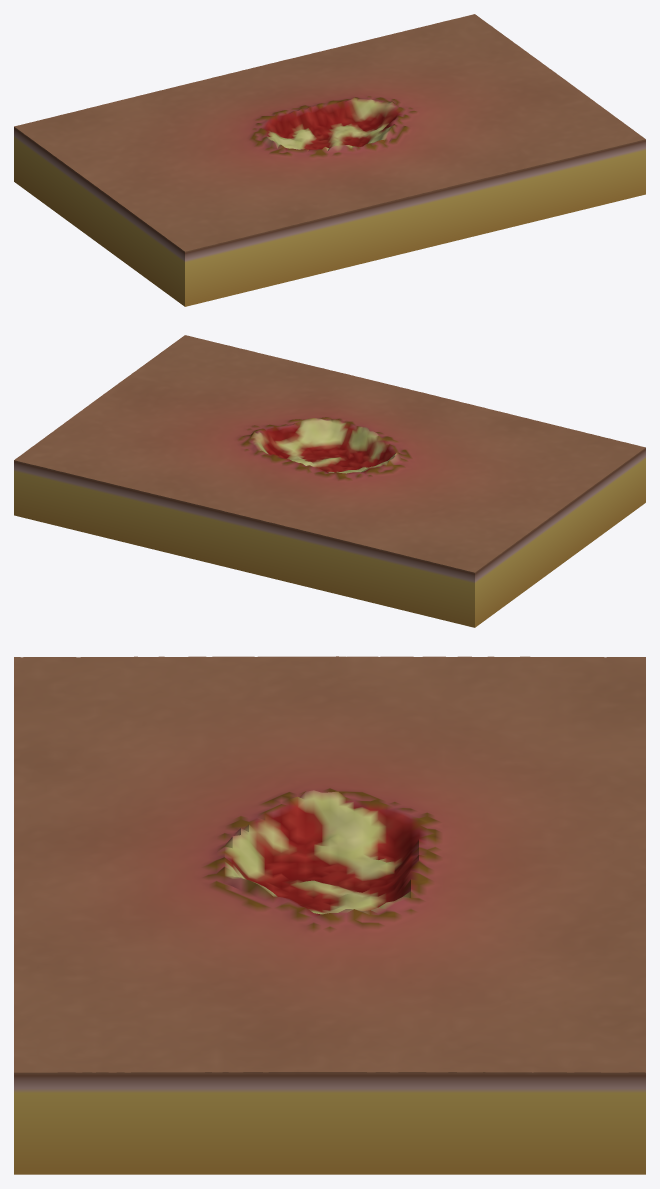
The model's file is care_infect.glb.
The picture shows the model from 3 angles, top to bottom: view 1: azimuth 30°, elevation 25°; view 2: azimuth 150°, elevation 25°; view 3: azimuth 270°, elevation 25°; orthographic projection. The views are drawn at different scales.
Parts seen in each view (by area): view 1: care_infect; view 2: care_infect; view 3: care_infect.
Boxes of the visible parts, x1=… form: care_infect: x1=14, y1=14, x2=645, y2=306; care_infect: x1=14, y1=335, x2=645, y2=627; care_infect: x1=14, y1=656, x2=645, y2=1174.
Bounding box in the file's own units: 14 × 1.9 × 9.
